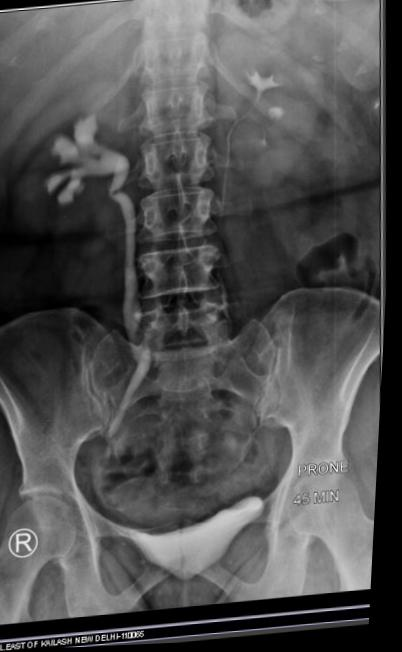left kidney: (229, 6, 348, 193)
right kidney: (4, 59, 146, 242)
vertebrae: (146, 63, 229, 127)
